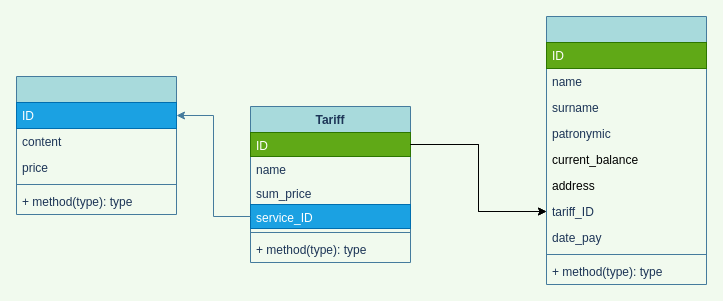
Image size: 723x301. Some labels were removed from this diagram. Here are the shapes that lost their labels. From the top down, the box of each, then its label:
(16, 76, 176, 214): Service
(546, 16, 706, 284): Client
